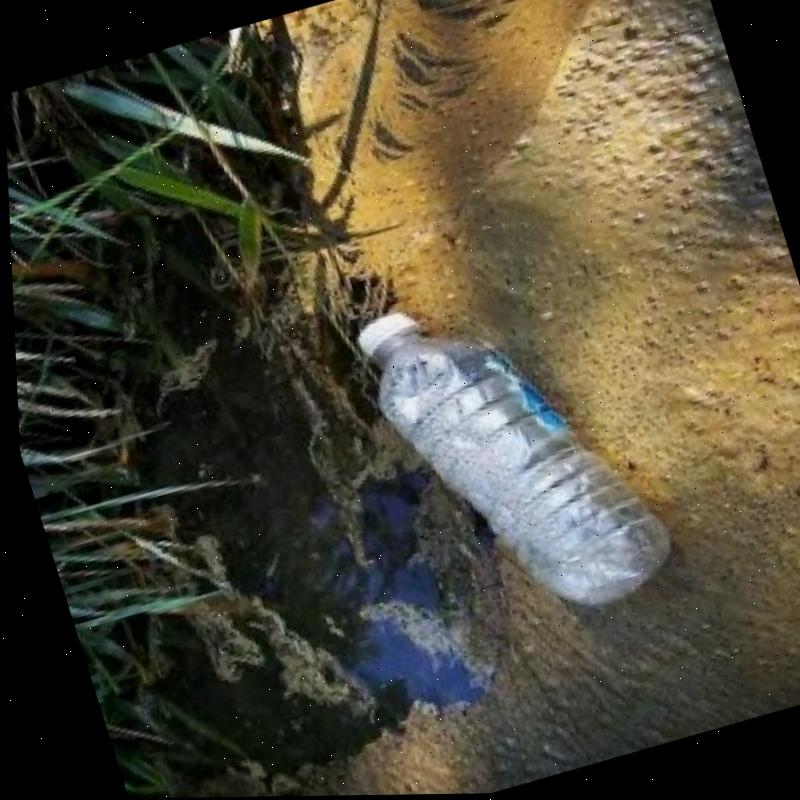botella: (345, 256, 680, 652)
